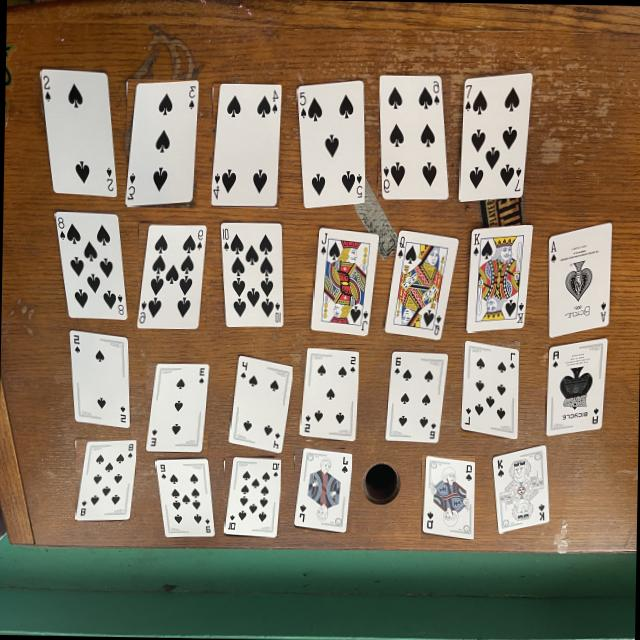10 of spades: (219, 222, 282, 327), (223, 456, 279, 537)
2 of spades: (39, 69, 115, 196), (68, 329, 128, 427)
3 of spades: (124, 81, 197, 206), (144, 363, 208, 452)
4 of spades: (210, 83, 280, 206), (229, 356, 291, 452)
5 of spades: (296, 81, 363, 208), (299, 348, 357, 440)
6 of spades: (378, 75, 447, 200), (384, 351, 447, 442)
7 of spades: (458, 72, 531, 201), (459, 341, 517, 438)
8 of spades: (54, 211, 125, 320), (74, 440, 135, 521)
9 of spades: (136, 225, 205, 329), (154, 458, 213, 538)
Ace of spades: (547, 224, 610, 337), (544, 338, 606, 436)
Jack of spades: (312, 226, 378, 335), (292, 448, 350, 532)
King of spades: (465, 225, 532, 332), (492, 445, 548, 532)
Queen of spades: (383, 230, 457, 339), (420, 455, 473, 539)
